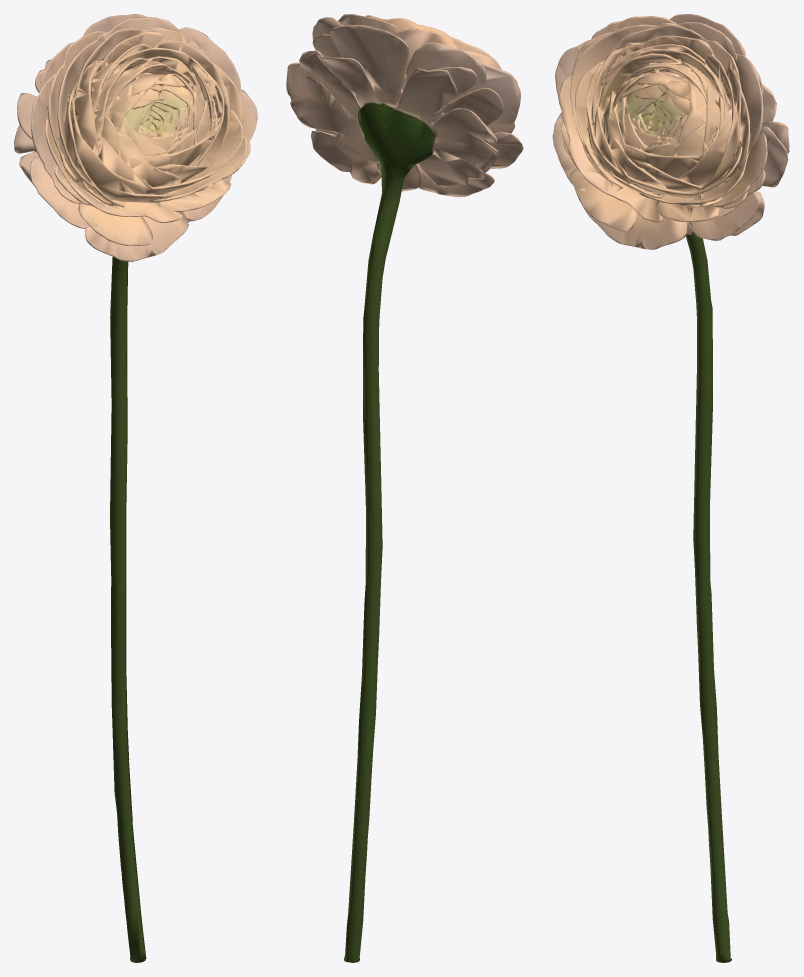
The model's file is peach.glb.
3 renders of one model, left to right at view 1: azimuth 30°, elevation 25°; view 2: azimuth 150°, elevation 25°; view 3: azimuth 330°, elevation 25°, orthographic.
Size of the model in its own units: 0.4702 by 1.9 by 0.2332.
Materials: 1 (1 with a texture image).
